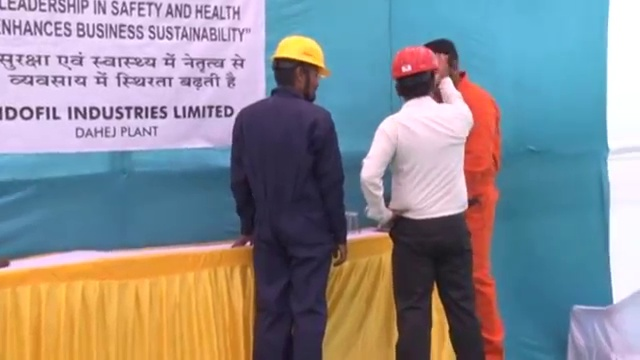helmet: (270, 33, 331, 77), (387, 45, 440, 79)
helmet_on: (269, 33, 331, 102), (386, 44, 441, 101)
person: (226, 34, 350, 360), (359, 43, 484, 360), (426, 37, 507, 360)
